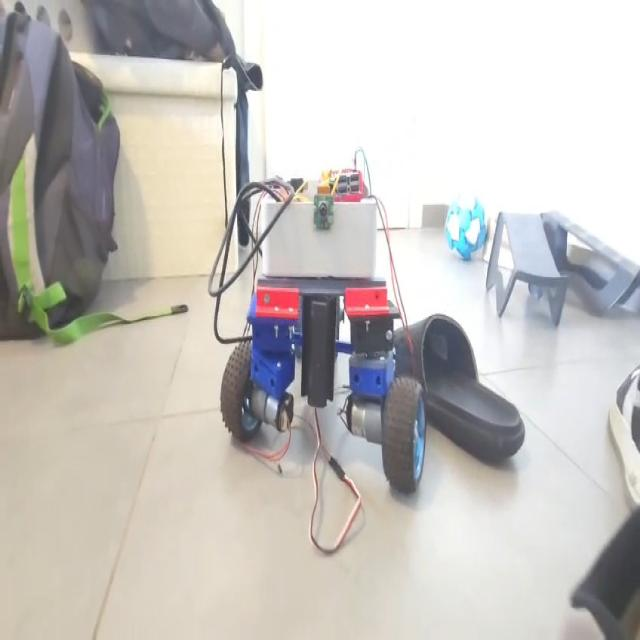Robot: (219, 143, 427, 509)
